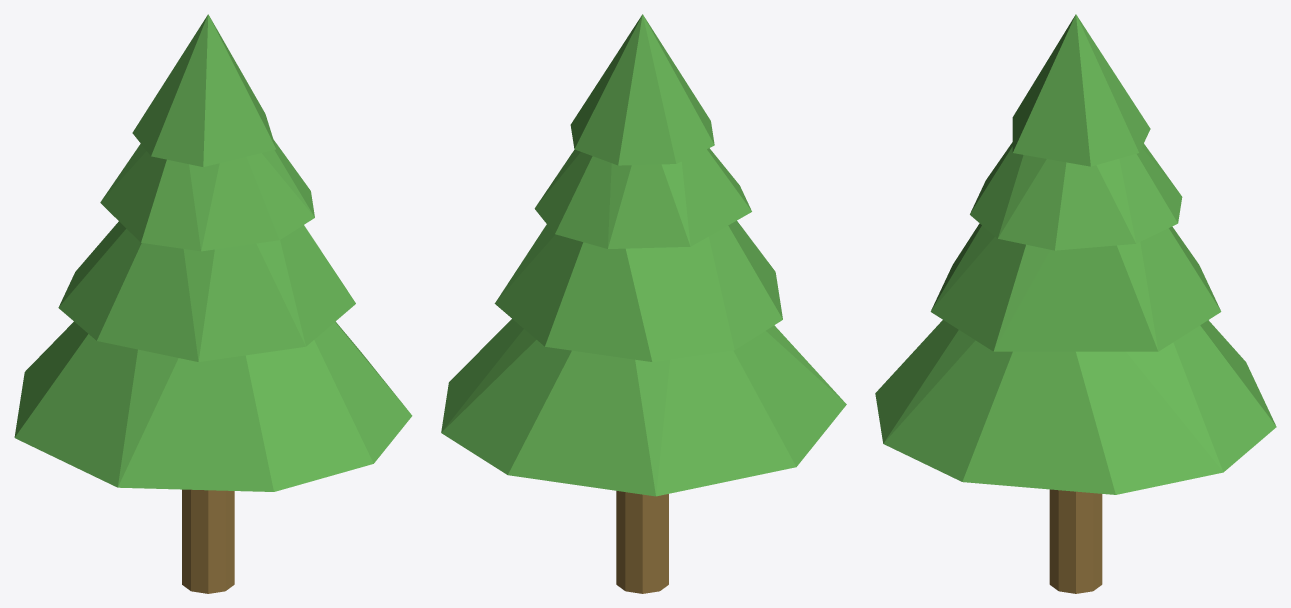
The model's file is Tree.fbx.
3 views of the same model, side by side, from view 1: azimuth 30°, elevation 25°; view 2: azimuth 150°, elevation 25°; view 3: azimuth 270°, elevation 25° (orthographic).
Parts seen in each view (by area): view 1: tree; view 2: tree; view 3: tree.
Boxes of the visible parts, left/top/right/bottom form: tree: left=14, top=14, right=412, bottom=593; tree: left=441, top=14, right=846, bottom=593; tree: left=875, top=14, right=1276, bottom=593.
Bounding box in the file's own units: 266 × 416 × 266.
